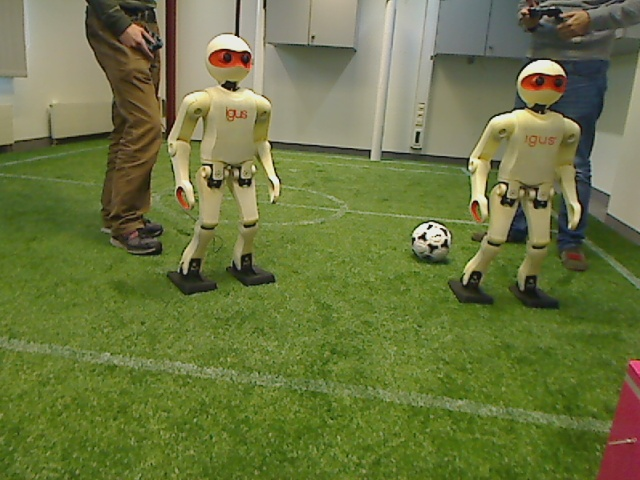ball: (405, 214, 459, 267)
robot: (165, 31, 282, 299), (462, 62, 584, 312)
